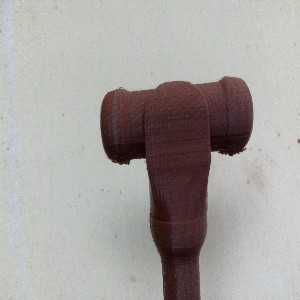palu: (99, 75, 255, 300)
